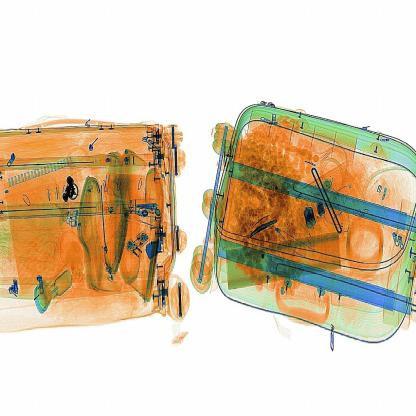wrench: (238, 204, 288, 246)
